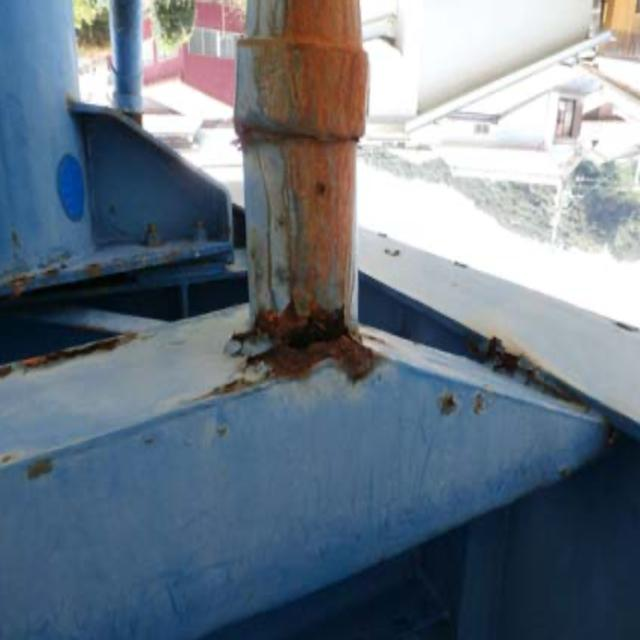corrosion: (220, 17, 396, 404)
